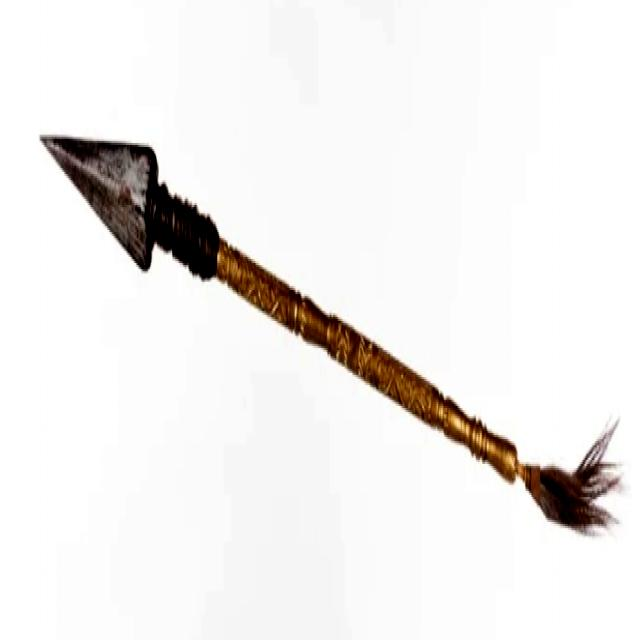spear: (34, 104, 624, 566)
